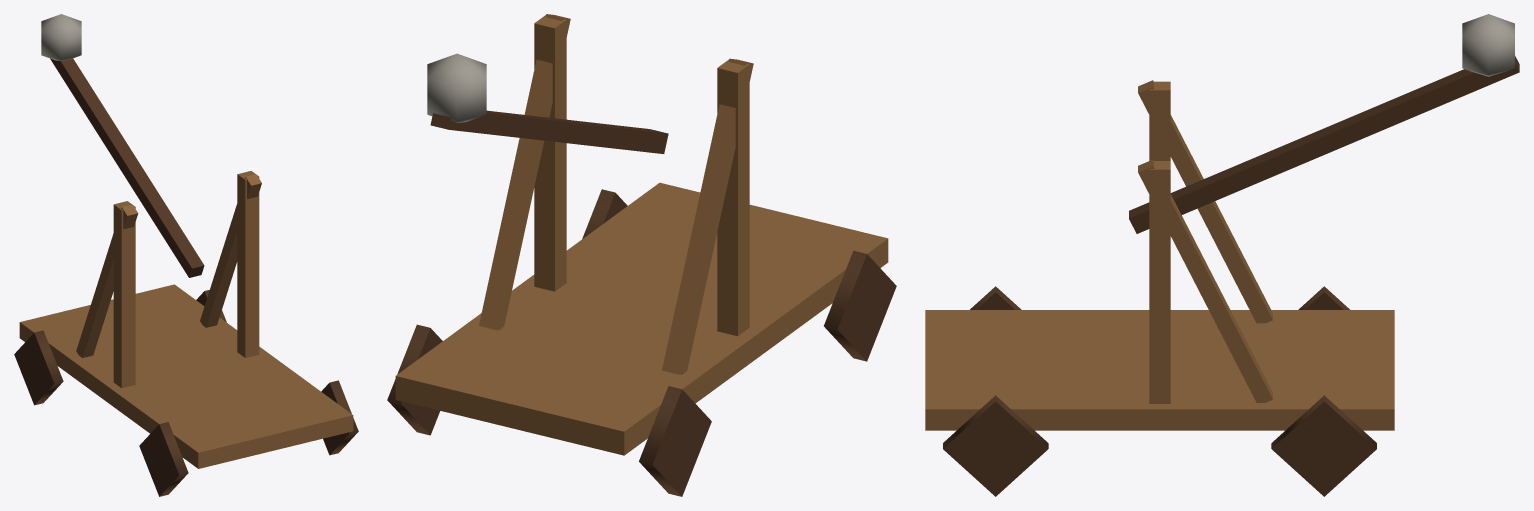
File: unit_mil_catapult_a02_lod2.glb
3 renders of one model, left to right at view 1: azimuth 30°, elevation 25°; view 2: azimuth 150°, elevation 25°; view 3: azimuth 270°, elevation 25°, orthographic. The views are drawn at different scales.
Visible parts, largest first — view 1: body, arm, wheel_0, wheel_2, wheel_3; view 2: body, arm, wheel_2, wheel_0, wheel_1, wheel_3; view 3: body, arm, wheel_1, wheel_3, wheel_0, wheel_2.
Part boxes in pixels (bbox=[...]): body: bbox=[19, 171, 353, 468]; arm: bbox=[41, 14, 204, 277]; wheel_0: bbox=[14, 330, 63, 405]; wheel_2: bbox=[139, 422, 188, 496]; wheel_3: bbox=[321, 380, 358, 455]; body: bbox=[395, 14, 888, 455]; arm: bbox=[427, 53, 668, 153]; wheel_2: bbox=[824, 250, 896, 361]; wheel_0: bbox=[639, 386, 711, 496]; wheel_1: bbox=[387, 324, 442, 435]; wheel_3: bbox=[582, 189, 627, 238]; body: bbox=[925, 80, 1394, 430]; arm: bbox=[1129, 14, 1519, 233]; wheel_1: bbox=[1271, 395, 1376, 496]; wheel_3: bbox=[943, 395, 1048, 496]; wheel_0: bbox=[1298, 286, 1349, 309]; wheel_2: bbox=[970, 286, 1021, 309].
Size of the model in its own units: 2.32 by 4 by 5.07.
